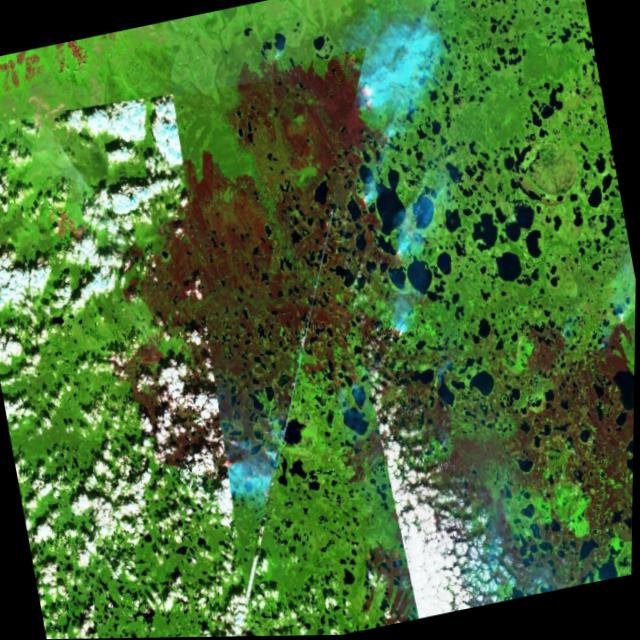fire: (314, 34, 441, 358), (207, 429, 296, 526), (599, 302, 636, 346)
